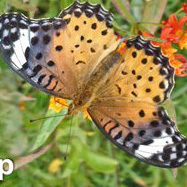Argyreus hyperbius: (1, 1, 186, 168)
butterfly: (1, 1, 187, 169)
